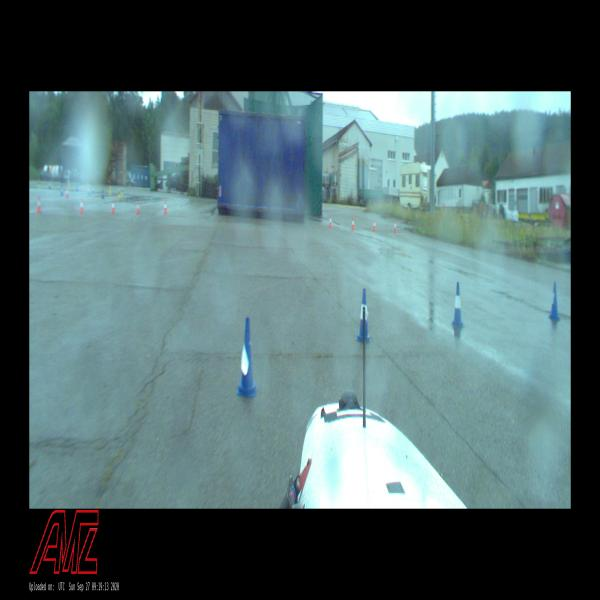blue_cone: (237, 317, 259, 398), (356, 290, 371, 343), (452, 282, 463, 329), (548, 280, 560, 320)
orange_cone: (136, 200, 140, 215), (111, 199, 115, 214), (80, 198, 83, 213), (164, 200, 167, 214), (373, 219, 376, 232), (352, 217, 354, 232), (38, 198, 40, 212), (329, 214, 331, 228), (394, 220, 396, 233)
